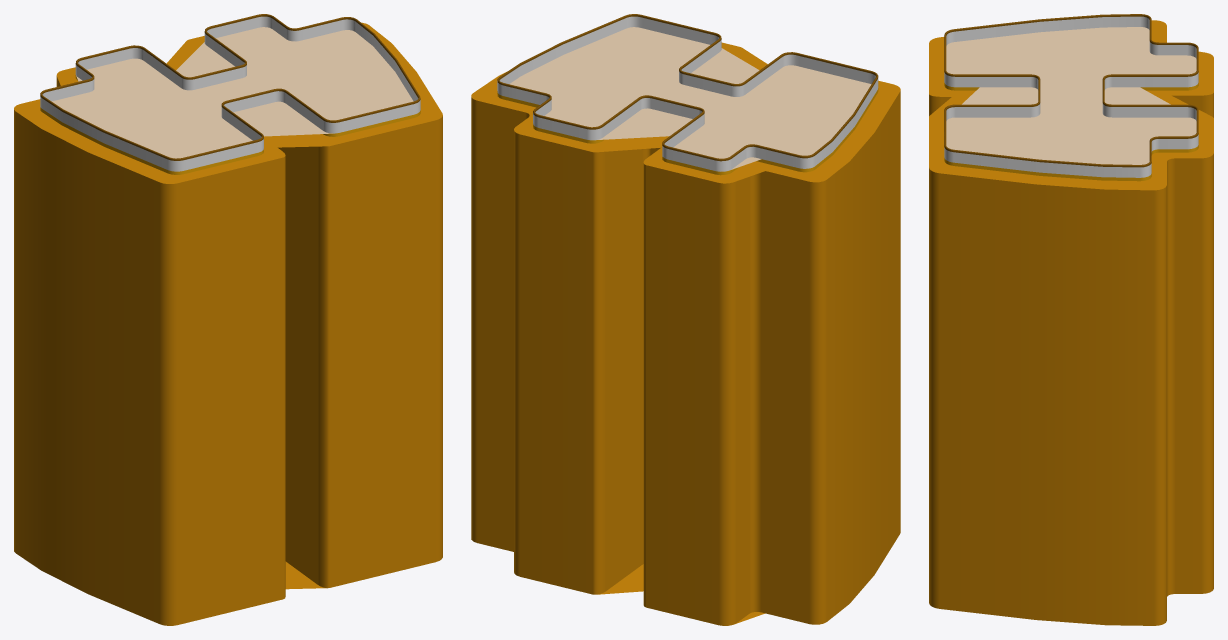
3 views of the same model, side by side, from view 1: azimuth 30°, elevation 25°; view 2: azimuth 150°, elevation 25°; view 3: azimuth 270°, elevation 25° (orthographic).
Visible parts, largest first — view 1: base32, base12, polySurface782, polySurface1194, polySurface1193, polySurface1196, polySurface1195, polySurface1198; view 2: base32, base12, polySurface782, polySurface1194, polySurface1195, polySurface1196, polySurface1193, polySurface1197; view 3: base32, base12, polySurface782, polySurface1195, polySurface1193, polySurface1194, polySurface1196, polySurface1198, polySurface1197.
Boxes of the visible parts, x1,y1,x2,y2 form: base32: (14, 22, 442, 625); base12: (40, 27, 420, 174); polySurface782: (40, 14, 420, 160); polySurface1194: (221, 91, 342, 153); polySurface1193: (40, 89, 186, 171); polySurface1196: (132, 29, 246, 90); polySurface1195: (329, 19, 420, 115); polySurface1198: (260, 16, 311, 41); base32: (471, 42, 900, 625); base12: (497, 27, 878, 175); polySurface782: (497, 14, 878, 161); polySurface1194: (679, 34, 799, 96); polySurface1195: (497, 16, 642, 98); polySurface1196: (589, 98, 704, 158); polySurface1193: (787, 73, 878, 168); polySurface1197: (717, 146, 770, 171); base32: (929, 20, 1213, 625); base12: (944, 27, 1198, 181); polySurface782: (944, 14, 1198, 167); polySurface1195: (944, 147, 1151, 177); polySurface1193: (946, 16, 1149, 45); polySurface1194: (944, 72, 1040, 120); polySurface1196: (1102, 74, 1197, 120); polySurface1198: (1151, 135, 1198, 151); polySurface1197: (1149, 41, 1196, 57).
Size of the model in its own units: 91.54 by 113 by 64.79.
